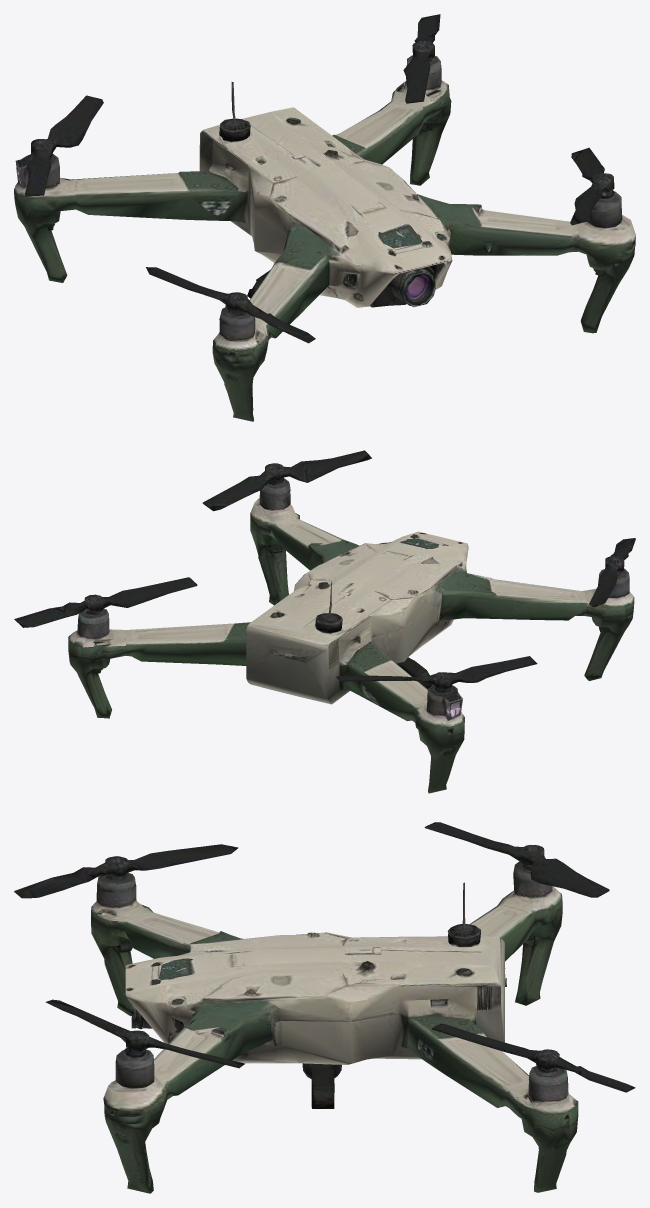
File: t243_drr_lod0m.glb
The picture shows the model from 3 angles, top to bottom: view 1: azimuth 30°, elevation 25°; view 2: azimuth 150°, elevation 25°; view 3: azimuth 270°, elevation 25°; orthographic projection. The views are drawn at different scales.
Size of the model in its own units: 2.2 by 0.795 by 2.2.
Materials: 1 (1 with a texture image).
